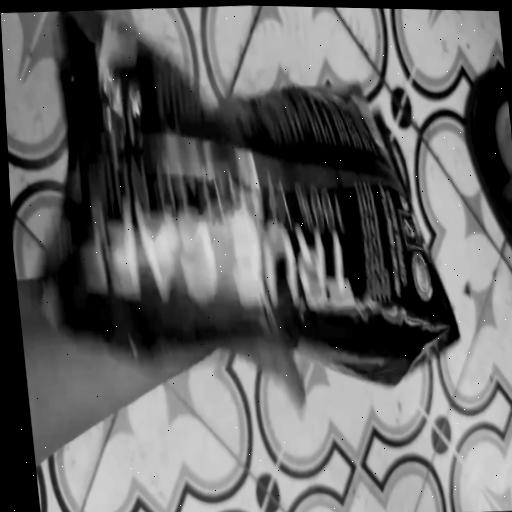cafe_hat: (34, 10, 458, 385)
